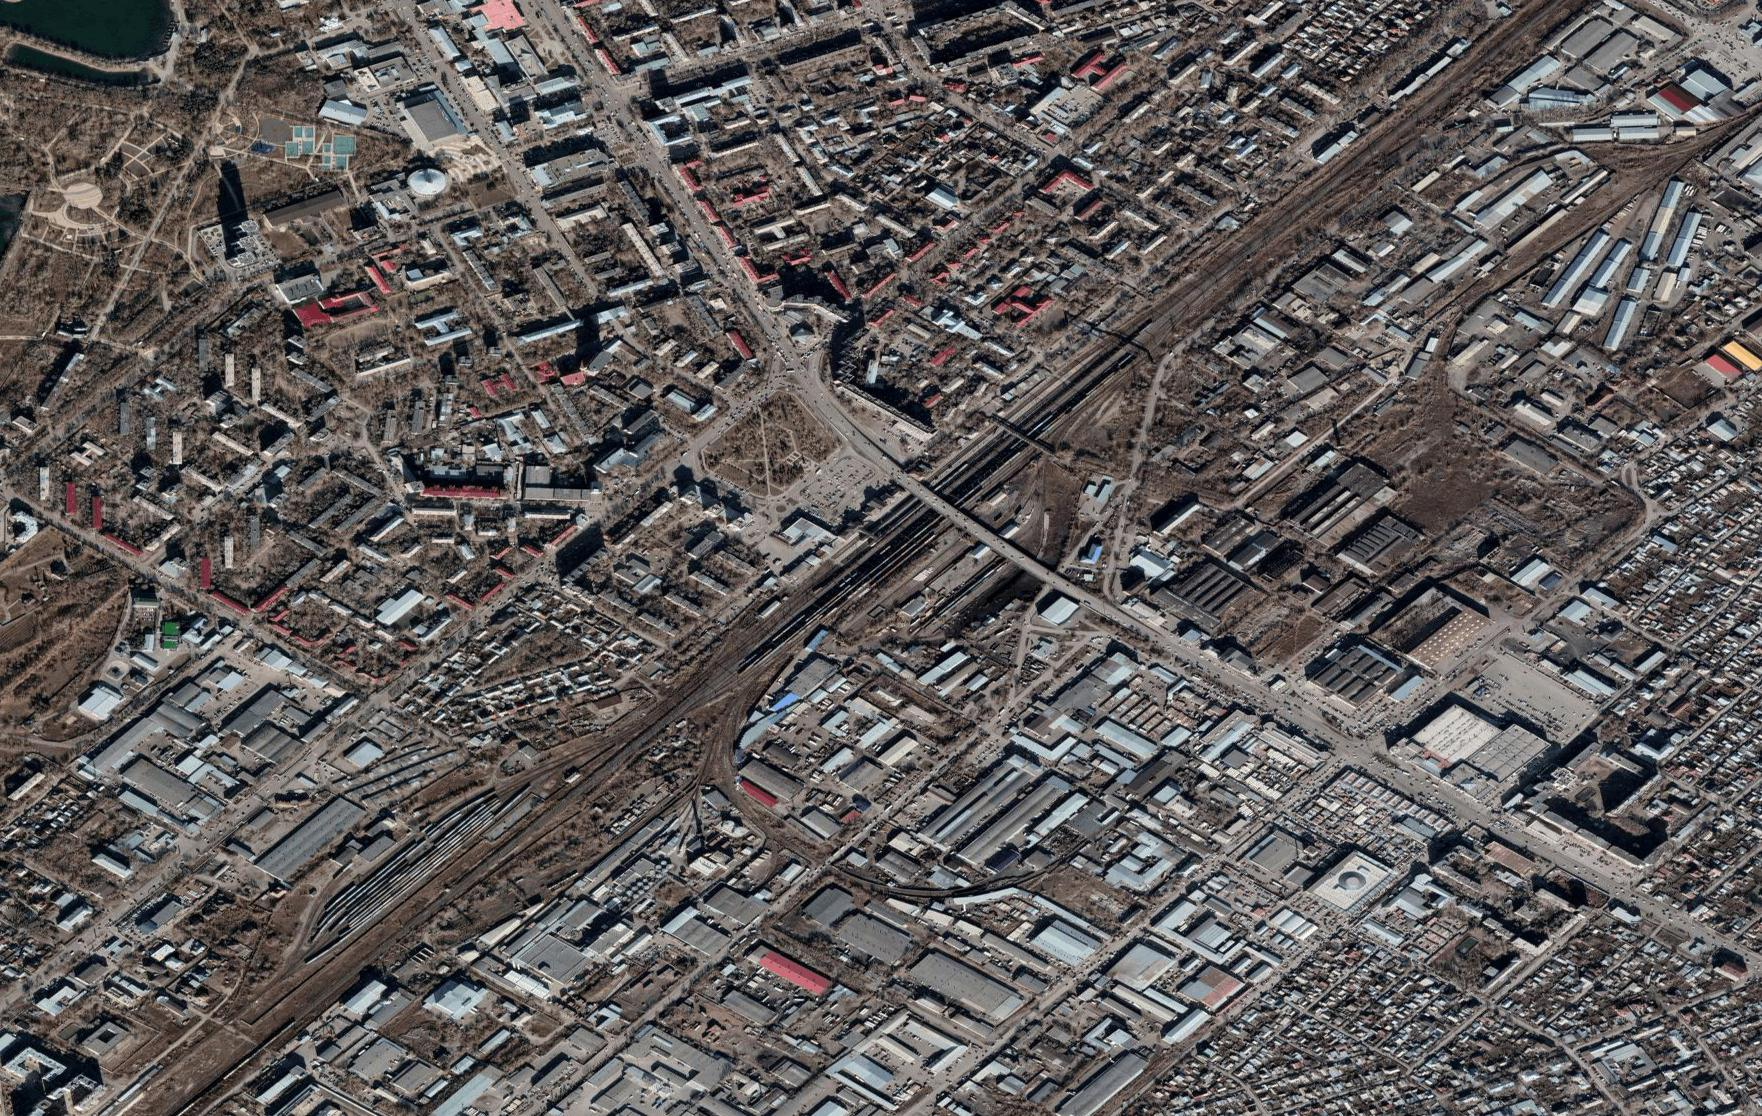bridge: (902, 476, 959, 520)
train_station: (234, 777, 475, 981)
